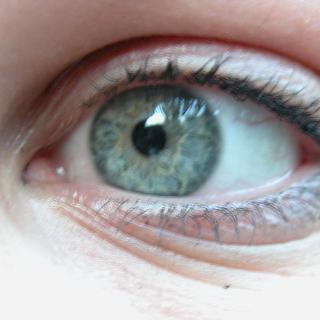pupil: (130, 119, 166, 155)
